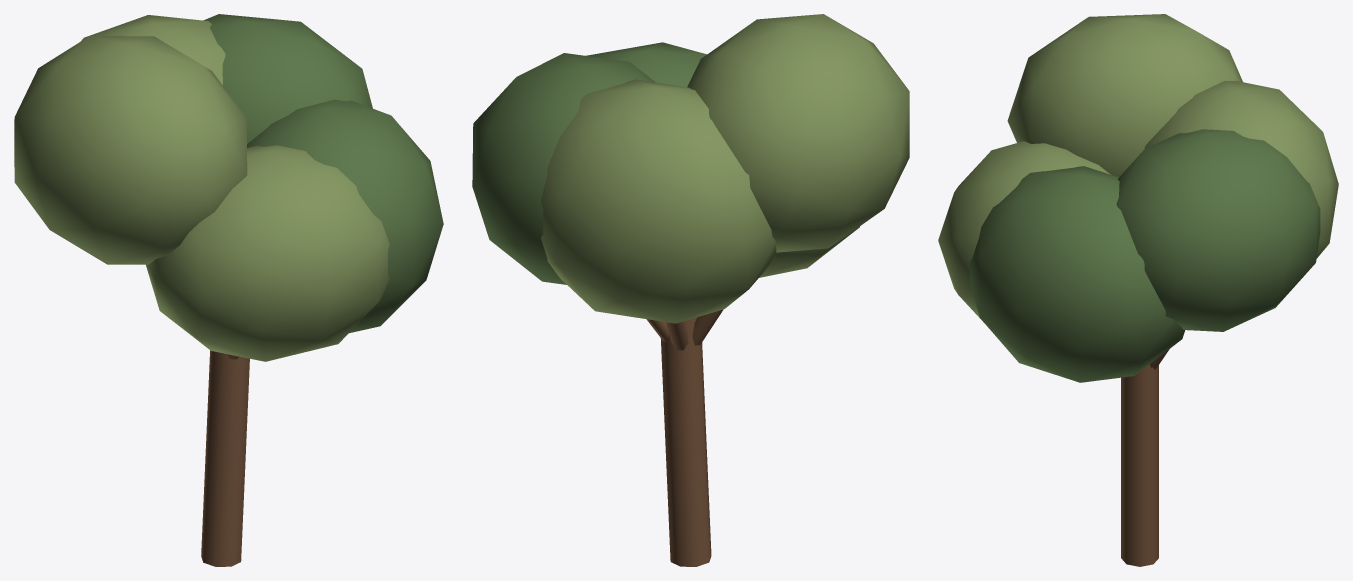
File: tree.glb
3 views of the same model, side by side, from view 1: azimuth 30°, elevation 25°; view 2: azimuth 150°, elevation 25°; view 3: azimuth 270°, elevation 25° (orthographic). The views are drawn at different scales.
Parts seen in each view (by area): view 1: tree; view 2: tree; view 3: tree.
Boxes of the visible parts, <box> form: tree: <box>14,14,443,566</box>; tree: <box>472,14,909,566</box>; tree: <box>938,14,1338,566</box>.
Size of the model in its own units: 3.34 by 4.62 by 3.37.
